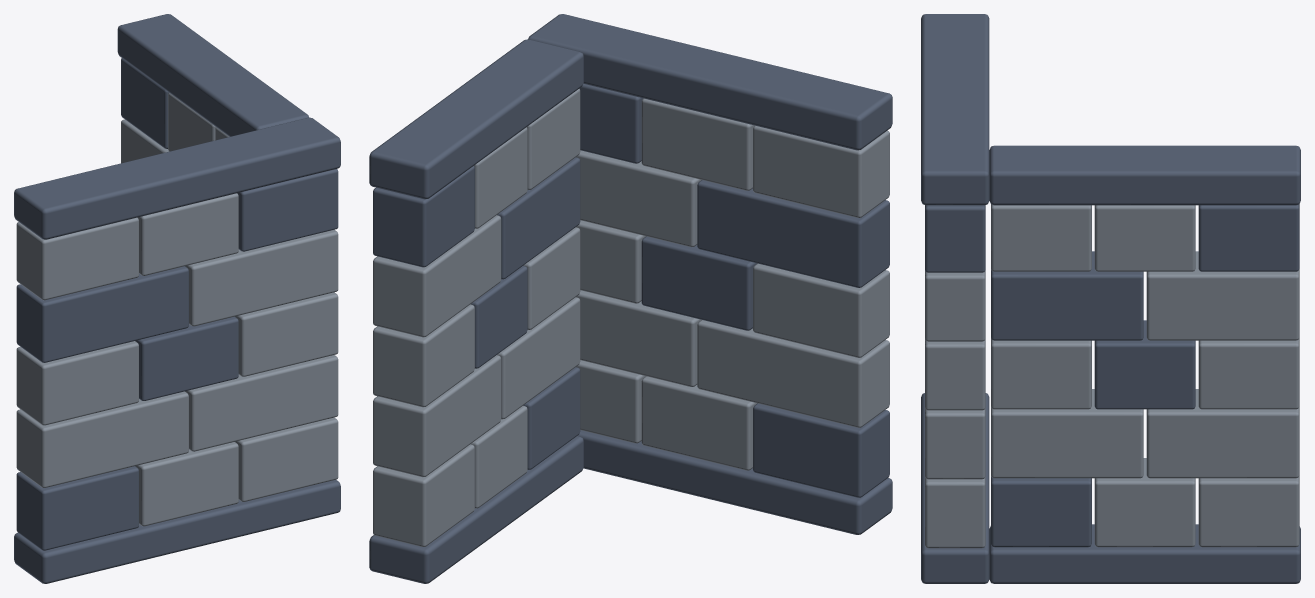
Rendered from dungeon-corner.glb.
3 renders of one model, left to right at view 1: azimuth 30°, elevation 25°; view 2: azimuth 150°, elevation 25°; view 3: azimuth 270°, elevation 25°, orthographic. The views are drawn at different scales.
Parts seen in each view (by area): view 1: wall-cap (×2), wall-foot, brick-1-0, brick-3-0, brick-3-1 (×2), brick-1-1, brick-4-2 (×2), brick-4-1 (×2), brick-0-0, brick-2-0, brick-4-0, brick-2-2 (+3 smaller); view 2: wall-cap (×2), wall-foot (×2), brick-1-0 (×2), brick-3-0 (×2), brick-3-1 (×2), brick-1-1 (×2), brick-0-0 (×2), brick-2-0 (×2), brick-4-0 (×2), brick-2-1 (×2), brick-0-1 (×2), brick-2-2 (×2) (+3 smaller); view 3: wall-cap (×2), wall-foot (×2), brick-3-1 (×2), brick-1-1 (×2), brick-2-2 (×2), brick-0-2 (×2), brick-4-2 (×2), brick-3-0, brick-1-0, brick-2-1, brick-0-1, brick-2-0 (+3 smaller).
Part boxes in pixels (x1=…): wall-cap (×2): x1=14, y1=14, x2=340, y2=239; wall-foot: x1=14, y1=479, x2=340, y2=583; brick-1-0: x1=16, y1=391, x2=188, y2=487; brick-3-0: x1=16, y1=266, x2=188, y2=362; brick-3-1 (×2): x1=121, y1=119, x2=338, y2=326; brick-1-1: x1=185, y1=355, x2=338, y2=451; brick-4-2 (×2): x1=121, y1=58, x2=338, y2=251; brick-4-1 (×2): x1=137, y1=93, x2=238, y2=275; brick-0-0: x1=16, y1=466, x2=138, y2=550; brick-2-0: x1=16, y1=341, x2=138, y2=425; brick-4-0: x1=16, y1=217, x2=138, y2=300; brick-2-2: x1=235, y1=292, x2=338, y2=376; wall-cap (×2): x1=369, y1=14, x2=892, y2=199; wall-foot (×2): x1=369, y1=430, x2=892, y2=583; brick-1-0 (×2): x1=497, y1=297, x2=889, y2=427; brick-3-0 (×2): x1=497, y1=157, x2=889, y2=287; brick-3-1 (×2): x1=373, y1=150, x2=701, y2=337; brick-1-1 (×2): x1=373, y1=290, x2=701, y2=477; brick-0-0 (×2): x1=523, y1=367, x2=889, y2=497; brick-2-0 (×2): x1=523, y1=227, x2=889, y2=357; brick-4-0 (×2): x1=527, y1=88, x2=889, y2=217; brick-2-1 (×2): x1=471, y1=236, x2=757, y2=368; brick-0-1 (×2): x1=470, y1=376, x2=756, y2=508; brick-2-2 (×2): x1=373, y1=220, x2=645, y2=407; wall-cap (×2): x1=921, y1=14, x2=1300, y2=205; wall-foot (×2): x1=921, y1=393, x2=1300, y2=583; brick-3-1 (×2): x1=925, y1=251, x2=1299, y2=341; brick-1-1 (×2): x1=925, y1=389, x2=1299, y2=479; brick-2-2 (×2): x1=925, y1=337, x2=1299, y2=410; brick-0-2 (×2): x1=925, y1=475, x2=1299, y2=548; brick-4-2 (×2): x1=925, y1=204, x2=1299, y2=272; brick-3-0: x1=991, y1=251, x2=1143, y2=340; brick-1-0: x1=991, y1=389, x2=1143, y2=478; brick-2-1: x1=1094, y1=320, x2=1195, y2=409; brick-0-1: x1=1094, y1=458, x2=1195, y2=547; brick-2-0: x1=991, y1=338, x2=1091, y2=409.
Size of the model in its own units: 2 by 2.4 by 2.
